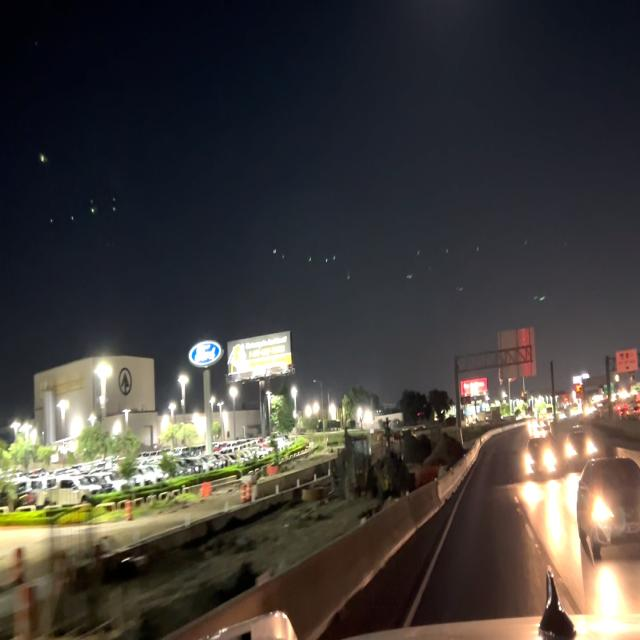back-of-sign: (494, 323, 537, 381)
